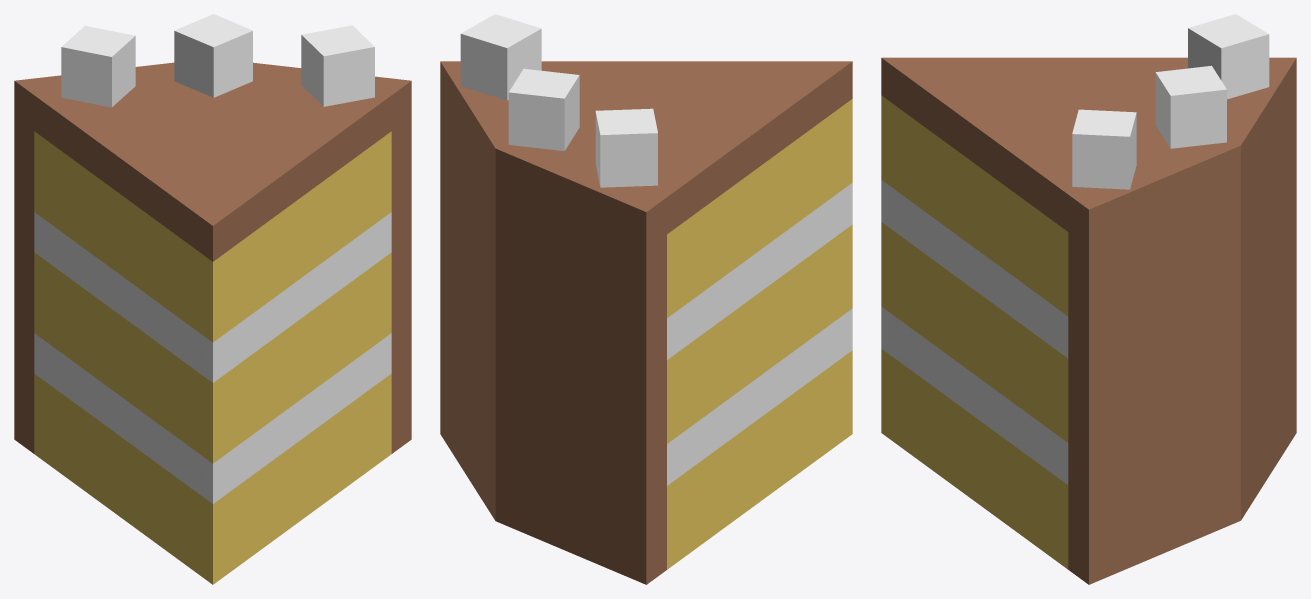
Rendered from CandylandCake_04.fbx.
The picture shows the model from 3 angles, left to right: view 1: azimuth 30°, elevation 25°; view 2: azimuth 150°, elevation 25°; view 3: azimuth 270°, elevation 25°; orthographic projection. The views are drawn at different scales.
Visible parts, largest first — view 1: CandylandCake_04; view 2: CandylandCake_04; view 3: CandylandCake_04.
Boxes of the visible parts, left/top/right/bottom form: CandylandCake_04: left=14, top=14, right=411, bottom=584; CandylandCake_04: left=440, top=14, right=852, bottom=584; CandylandCake_04: left=881, top=14, right=1296, bottom=584.
Bounding box in the file's own units: 0.5801 × 0.7619 × 0.6699.
